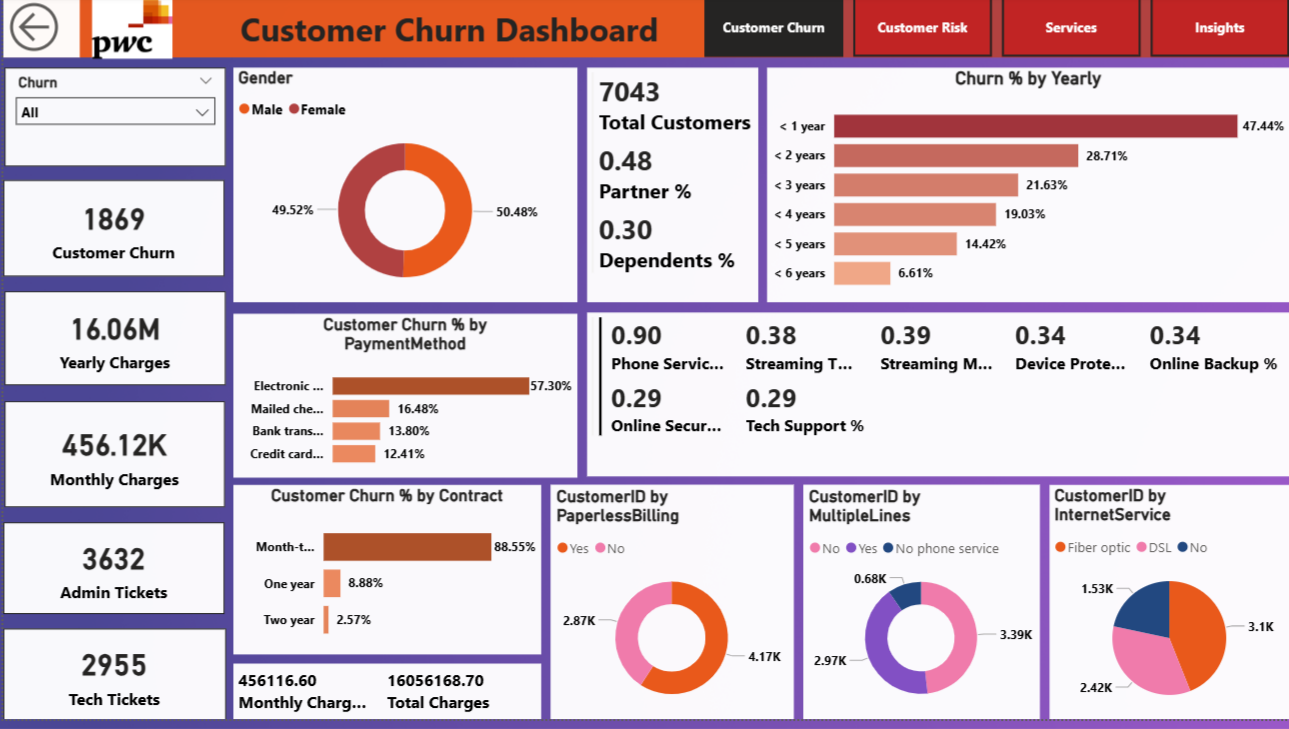

Layout of this report page (visuals, bound fields, positions):
{"tool":"powerbi","page":{"name":"Customer Churn","canvas":[1280,720],"ordinal":0},"visuals":[{"type":"textbox","box":[0,0,1280,61],"z":0},{"type":"slicer","fields":{"Values":["Customer_Churn_Dataset.Churn"]},"box":[1.2,70.9,220.2,98.3],"z":1000},{"type":"card","fields":{"Values":["Customer_Churn_Dataset.Customer Churn"]},"box":[0,182.9,220.2,95.8],"z":2000},{"type":"card","fields":{"Values":["Sum(Customer_Churn_Dataset.TotalCharges)"]},"box":[1.2,293.6,220.2,93.3],"z":3000},{"type":"card","fields":{"Values":["Sum(Customer_Churn_Dataset.MonthlyCharges)"]},"box":[1.2,403,218.9,105.7],"z":4000},{"type":"card","fields":{"Values":["Customer_Churn_Dataset.Admin Tickets"]},"box":[0,523.7,220.2,90.8],"z":5000},{"type":"card","fields":{"Values":["Customer_Churn_Dataset.Tech Tickets"]},"box":[0,629.4,221.4,90.8],"z":6000},{"type":"donutChart","title":"Gender","fields":{"Y":["CountNonNull(Customer_Churn_Dataset.customerID)"],"Category":["Customer_Churn_Dataset.gender"]},"box":[228.9,70.9,342.1,233.9],"z":7000},{"type":"multiRowCard","fields":{"Values":["Customer_Churn_Dataset.customerID","Customer_Churn_Dataset.Partner %","Customer_Churn_Dataset.Dependents %"]},"box":[580.9,70.9,170.4,233.9],"z":8000},{"type":"barChart","title":"Churn % by Yearly","fields":{"Y":["Customer_Churn_Dataset.Churn Rate %"],"Category":["Customer_Churn_Dataset.Tenure Group"]},"box":[760.1,70.9,520,233.9],"z":9000},{"type":"barChart","title":"Customer Churn % by PaymentMethod","fields":{"Category":["Customer_Churn_Dataset.PaymentMethod"],"Y":["Customer_Churn_Dataset.Customer Churn"]},"box":[228.9,316,342.1,163],"z":11000},{"type":"barChart","title":"Customer Churn % by Contract","fields":{"Category":["Customer_Churn_Dataset.Contract"],"Y":["Customer_Churn_Dataset.Customer Churn"]},"box":[228.9,486.4,306,169.2],"z":12000},{"type":"multiRowCard","fields":{"Values":["Customer_Churn_Dataset.Phone Service %","Customer_Churn_Dataset.Streaming TV %","Customer_Churn_Dataset.Streaming Movies %","Customer_Churn_Dataset.Device Protection %","Customer_Churn_Dataset.Online Backup %","Customer_Churn_Dataset.Online Security %","Customer_Churn_Dataset.Tech Support %"]},"box":[580.9,314.7,699.1,163],"z":13000},{"type":"donutChart","title":"CustomerID by PaperlessBilling","fields":{"Category":["Customer_Churn_Dataset.PaperlessBilling"],"Y":["Count(Customer_Churn_Dataset.customerID)"]},"box":[544.9,486.4,241.3,233.9],"z":14000},{"type":"donutChart","title":"CustomerID by MultipleLines","fields":{"Category":["Customer_Churn_Dataset.MultipleLines"],"Y":["Count(Customer_Churn_Dataset.customerID)"]},"box":[796.1,486.4,235.1,233.9],"z":15000},{"type":"pieChart","title":"CustomerID by InternetService","fields":{"Category":["Customer_Churn_Dataset.InternetService"],"Y":["Count(Customer_Churn_Dataset.customerID)"]},"box":[1041.2,486.4,238.8,233.9],"z":16000},{"type":"multiRowCard","fields":{"Values":["Sum(Customer_Churn_Dataset.MonthlyCharges)","Sum(Customer_Churn_Dataset.TotalCharges)"]},"box":[228.9,664.3,306,56],"z":17000},{"type":"image","box":[85.8,1.2,84.6,61],"z":18000},{"type":"actionButton","box":[0,0,75.9,61],"z":19000},{"type":"pageNavigator","box":[697.9,0,582.2,61],"z":20000}]}

Visuals, with their boxes in screenshot pixels (x1, y1, x2, y2), scaled from the page's 1280x720 canvas onto the 1289x729 screenshot:
textbox: <region>0, 0, 1288, 62</region>
slicer - Customer_Churn_Dataset.Churn: <region>1, 72, 223, 171</region>
card - Customer_Churn_Dataset.Customer Churn: <region>0, 185, 222, 282</region>
card - Sum(Customer_Churn_Dataset.TotalCharges): <region>1, 297, 223, 392</region>
card - Sum(Customer_Churn_Dataset.MonthlyCharges): <region>1, 408, 222, 515</region>
card - Customer_Churn_Dataset.Admin Tickets: <region>0, 530, 222, 622</region>
card - Customer_Churn_Dataset.Tech Tickets: <region>0, 637, 223, 728</region>
"Gender" donutChart: <region>231, 72, 575, 309</region>
multiRowCard - Customer_Churn_Dataset.customerID x Customer_Churn_Dataset.Partner %: <region>585, 72, 757, 309</region>
"Churn % by Yearly" barChart: <region>765, 72, 1288, 309</region>
"Customer Churn % by PaymentMethod" barChart: <region>231, 320, 575, 485</region>
"Customer Churn % by Contract" barChart: <region>231, 492, 539, 664</region>
multiRowCard - Customer_Churn_Dataset.Phone Service % x Customer_Churn_Dataset.Streaming TV %: <region>585, 319, 1288, 484</region>
"CustomerID by PaperlessBilling" donutChart: <region>549, 492, 792, 728</region>
"CustomerID by MultipleLines" donutChart: <region>802, 492, 1038, 728</region>
"CustomerID by InternetService" pieChart: <region>1049, 492, 1288, 728</region>
multiRowCard - Sum(Customer_Churn_Dataset.MonthlyCharges) x Sum(Customer_Churn_Dataset.TotalCharges): <region>231, 673, 539, 728</region>
image: <region>86, 1, 172, 63</region>
actionButton: <region>0, 0, 76, 62</region>
pageNavigator: <region>703, 0, 1288, 62</region>
